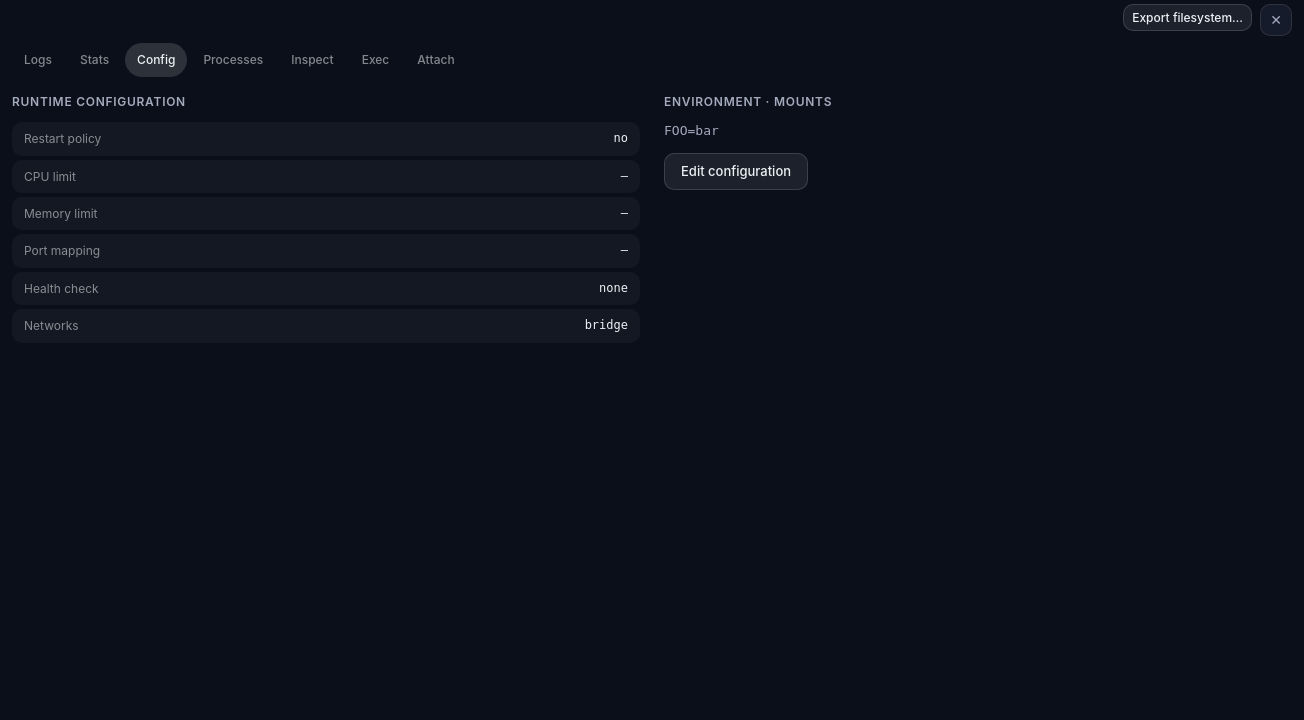
Test case: ContainerDetailPanel — Config tab (REQ-24, REQ-25) › cancel discards the edit without contacting the server
Click the button "Edit configuration". click: click(736, 171)
box: [664, 153, 808, 190]
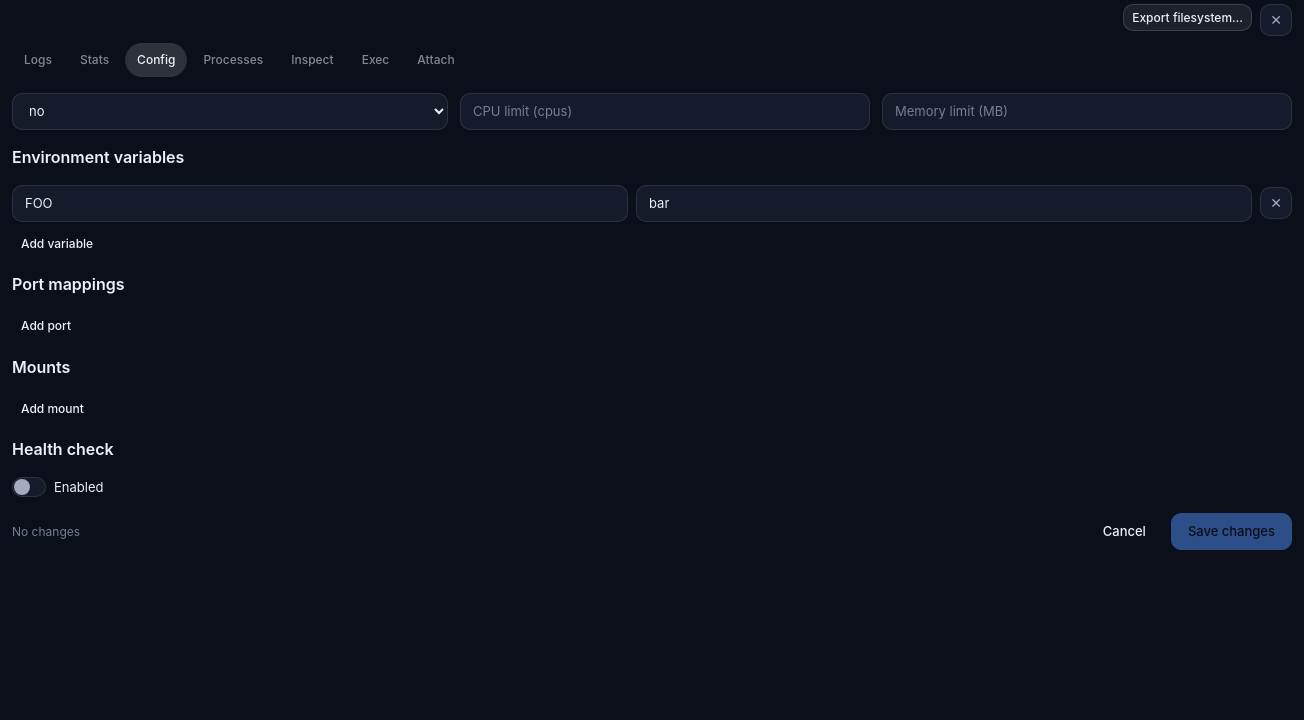
Select "always" in the dropdown named "Restart policy". click: (230, 111)
box: [12, 93, 448, 130]
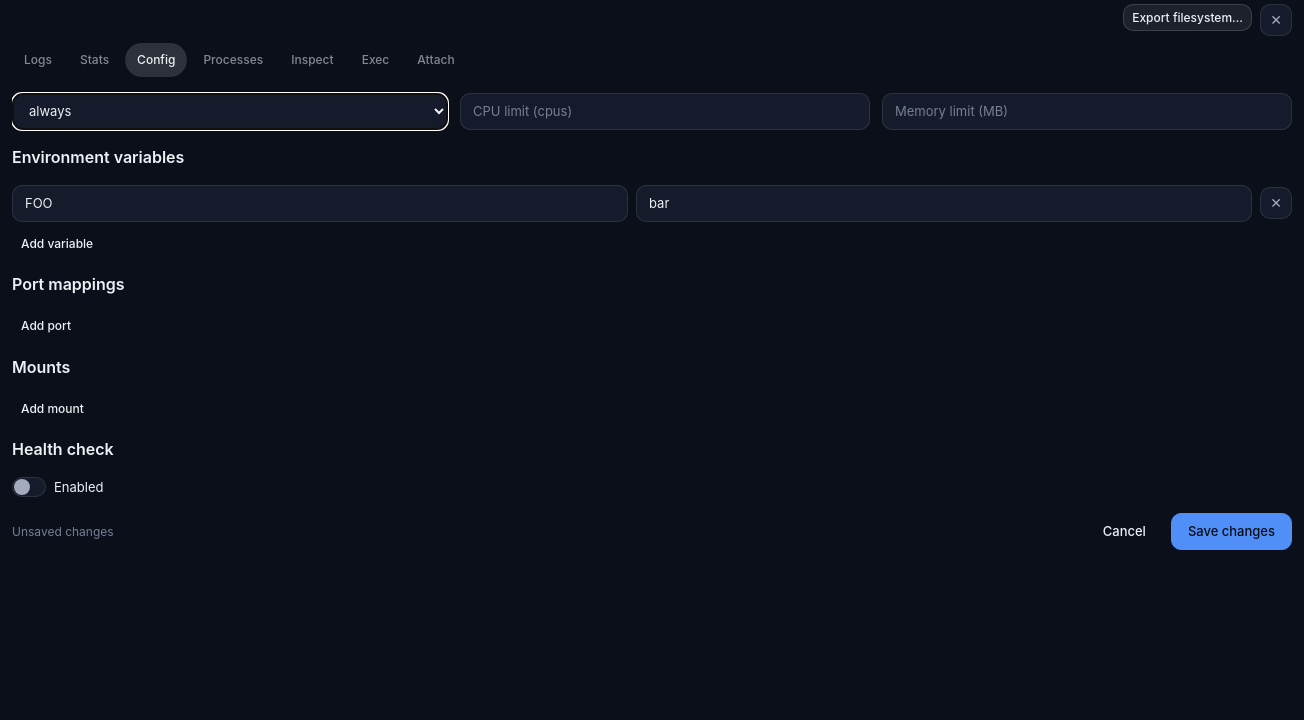
Click the button "Cancel". click: click(1124, 532)
box: [1086, 513, 1163, 550]
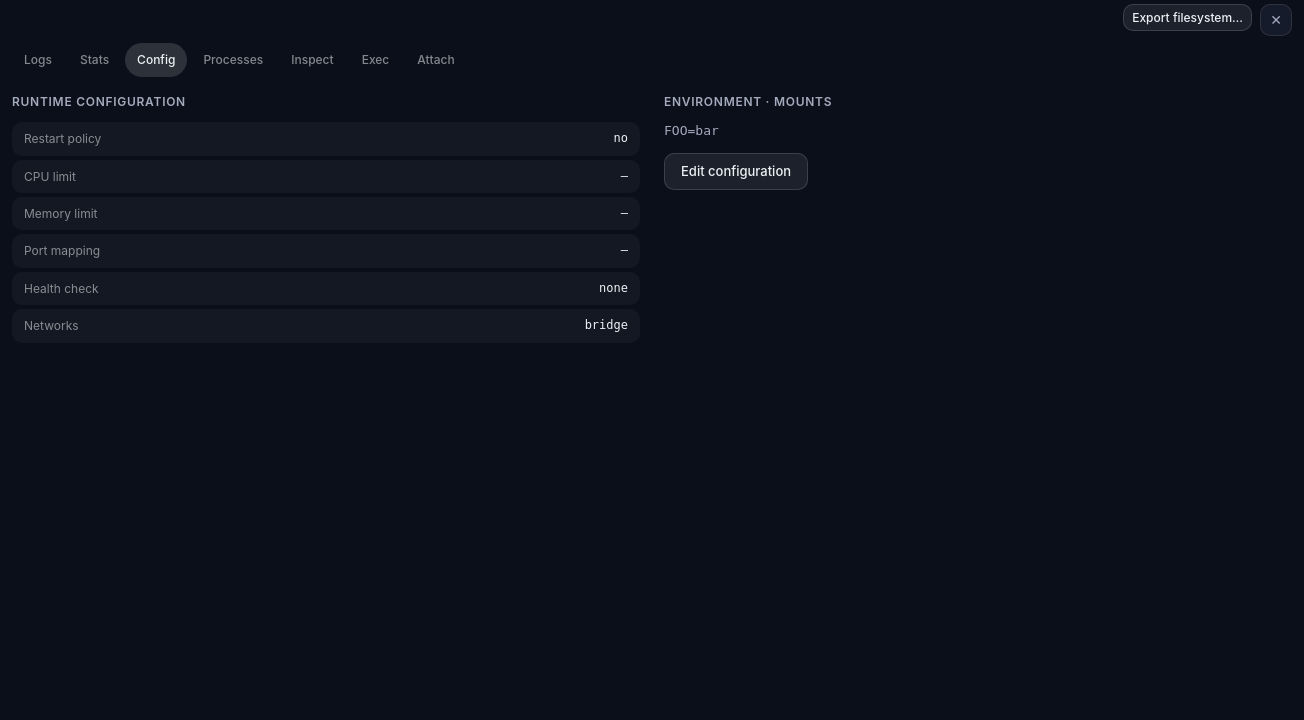
Now the button "Edit configuration" is shown, box [664, 153, 808, 190]
